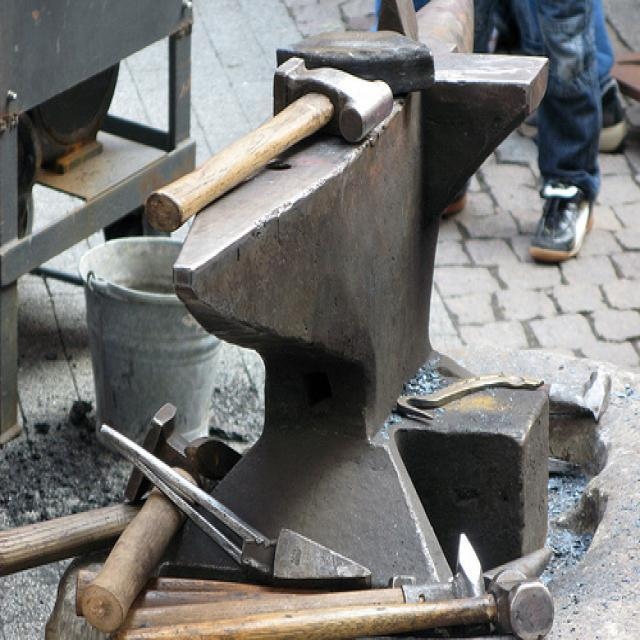hammer: (126, 42, 402, 248), (115, 551, 558, 640)
